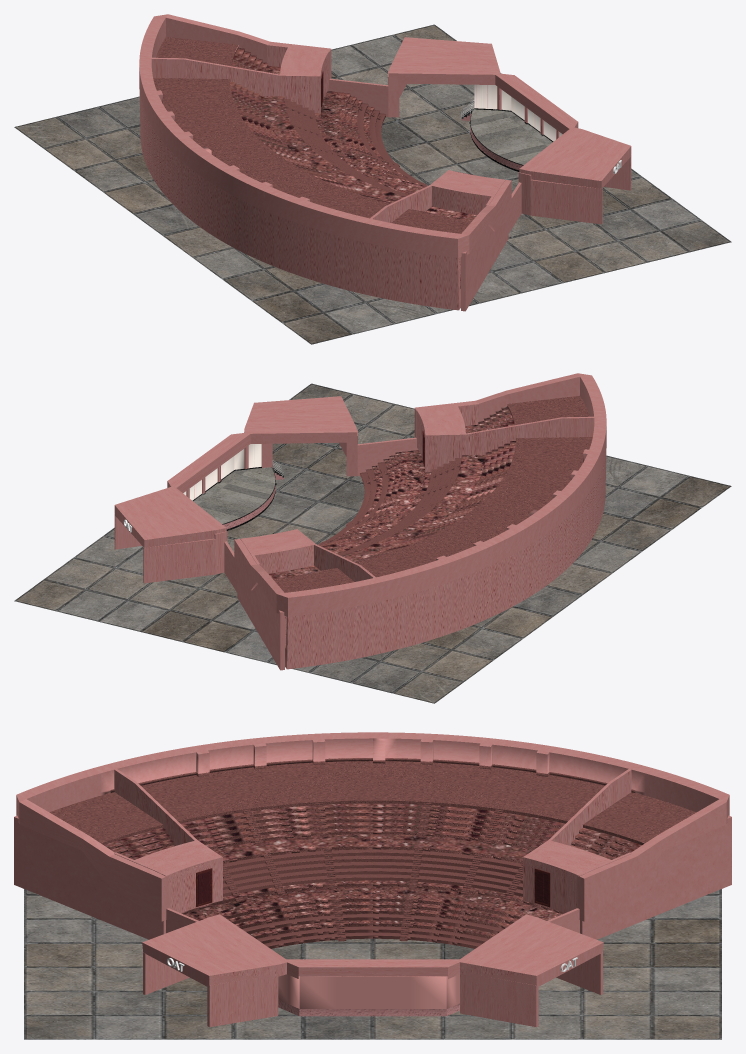
File: OAT_with_textures.fbx
The picture shows the model from 3 angles, top to bottom: view 1: azimuth 30°, elevation 25°; view 2: azimuth 150°, elevation 25°; view 3: azimuth 270°, elevation 25°; orthographic projection. The views are drawn at different scales.
Visible parts, largest first — view 1: Plane, Seating Stairs.020, Cube.012, Huses, Stage, Seating Stairs.014, Seating Stairs.007, Cube.002, Cube.010, Cube.001, Stage.001, Seating Stairs.009 (+5 smaller); view 2: Plane, Seating Stairs.020, Cube.012, Huses, Stage, Seating Stairs.014, Seating Stairs.007, Cube.002, Cube.010, Cube.001, Stage.001, Seating Stairs.009 (+5 smaller); view 3: Seating Stairs.020, Plane, Cube.012, Cube.002, Huses, Stage.001, Seating Stairs.007, Seating Stairs.009, Seating Stairs.014, Seating Stairs.019, Seating Stairs.018, Seating Stairs.017 (+17 smaller).
Part boxes in pixels (x1,y1,x2,y2): Plane: (14,24,731,344); Seating Stairs.020: (139,14,511,310); Cube.012: (388,37,631,224); Huses: (151,44,505,222); Stage: (470,108,552,171); Seating Stairs.014: (260,65,476,220); Seating Stairs.007: (321,91,421,194); Cube.002: (238,45,508,311); Cube.010: (495,73,578,133); Cube.001: (327,78,521,233); Stage.001: (474,84,562,141); Seating Stairs.009: (296,104,407,195); Plane: (14,383,731,703); Seating Stairs.020: (234,373,606,669); Cube.012: (114,396,357,583); Huses: (240,403,594,581); Stage: (193,467,275,530); Seating Stairs.014: (269,424,485,579); Seating Stairs.007: (324,450,425,553); Cube.002: (237,404,507,670); Cube.010: (167,433,250,492); Cube.001: (224,437,418,592); Stage.001: (183,444,261,500); Seating Stairs.009: (338,463,449,554); Seating Stairs.020: (16,732,729,921); Plane: (24,889,721,1039); Cube.012: (142,914,603,1027); Cube.002: (14,815,731,939); Huses: (114,769,631,913); Stage.001: (278,974,459,1008); Seating Stairs.007: (184,886,561,920); Seating Stairs.009: (223,862,522,896); Seating Stairs.014: (212,834,533,863); Seating Stairs.019: (104,803,641,849); Seating Stairs.018: (111,809,634,853); Seating Stairs.017: (120,816,625,857).
Bounding box in the file's own units: 8635 × 1543 × 10878.
Materials: 24 (19 with a texture image).
